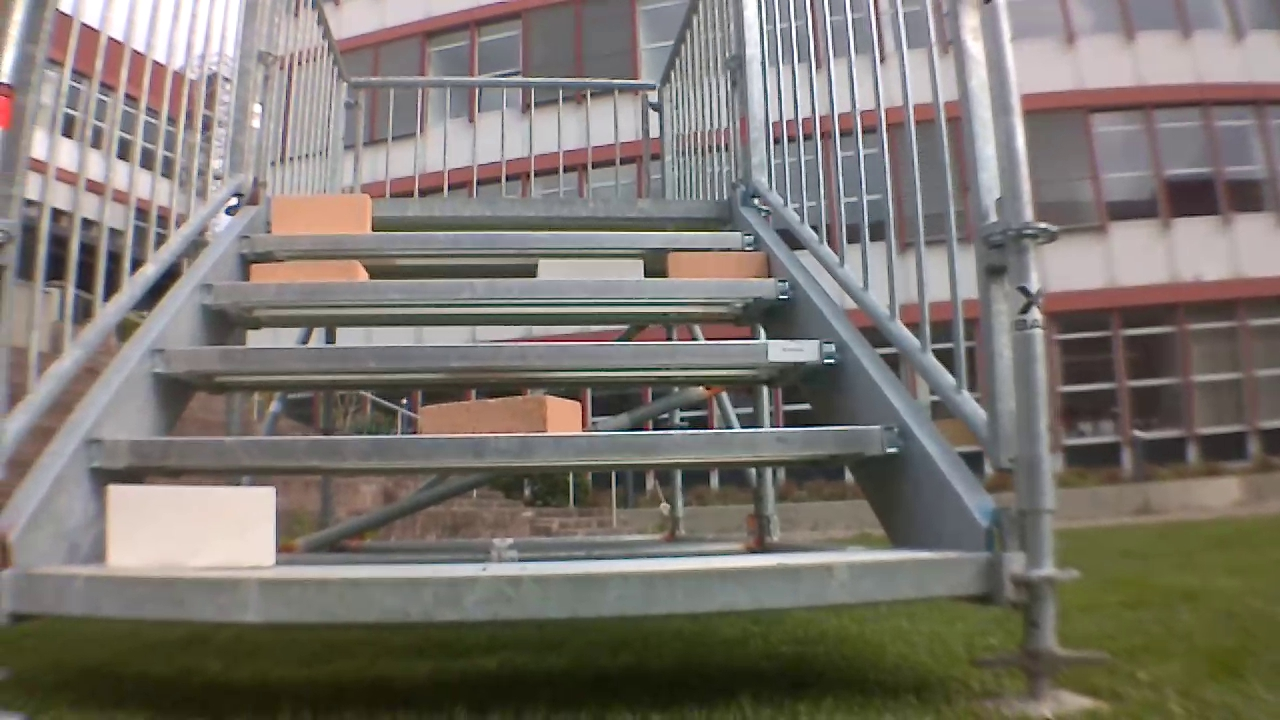brick: (105, 483, 275, 570), (418, 395, 581, 434), (272, 194, 371, 234), (667, 251, 768, 279), (248, 260, 368, 282), (539, 259, 643, 278)
edge: (18, 553, 994, 620), (89, 426, 902, 465), (153, 340, 843, 371), (202, 277, 796, 301), (240, 231, 759, 249), (265, 201, 732, 218)
stairs: (5, 4, 1070, 715)
steps: (9, 190, 1005, 626)
